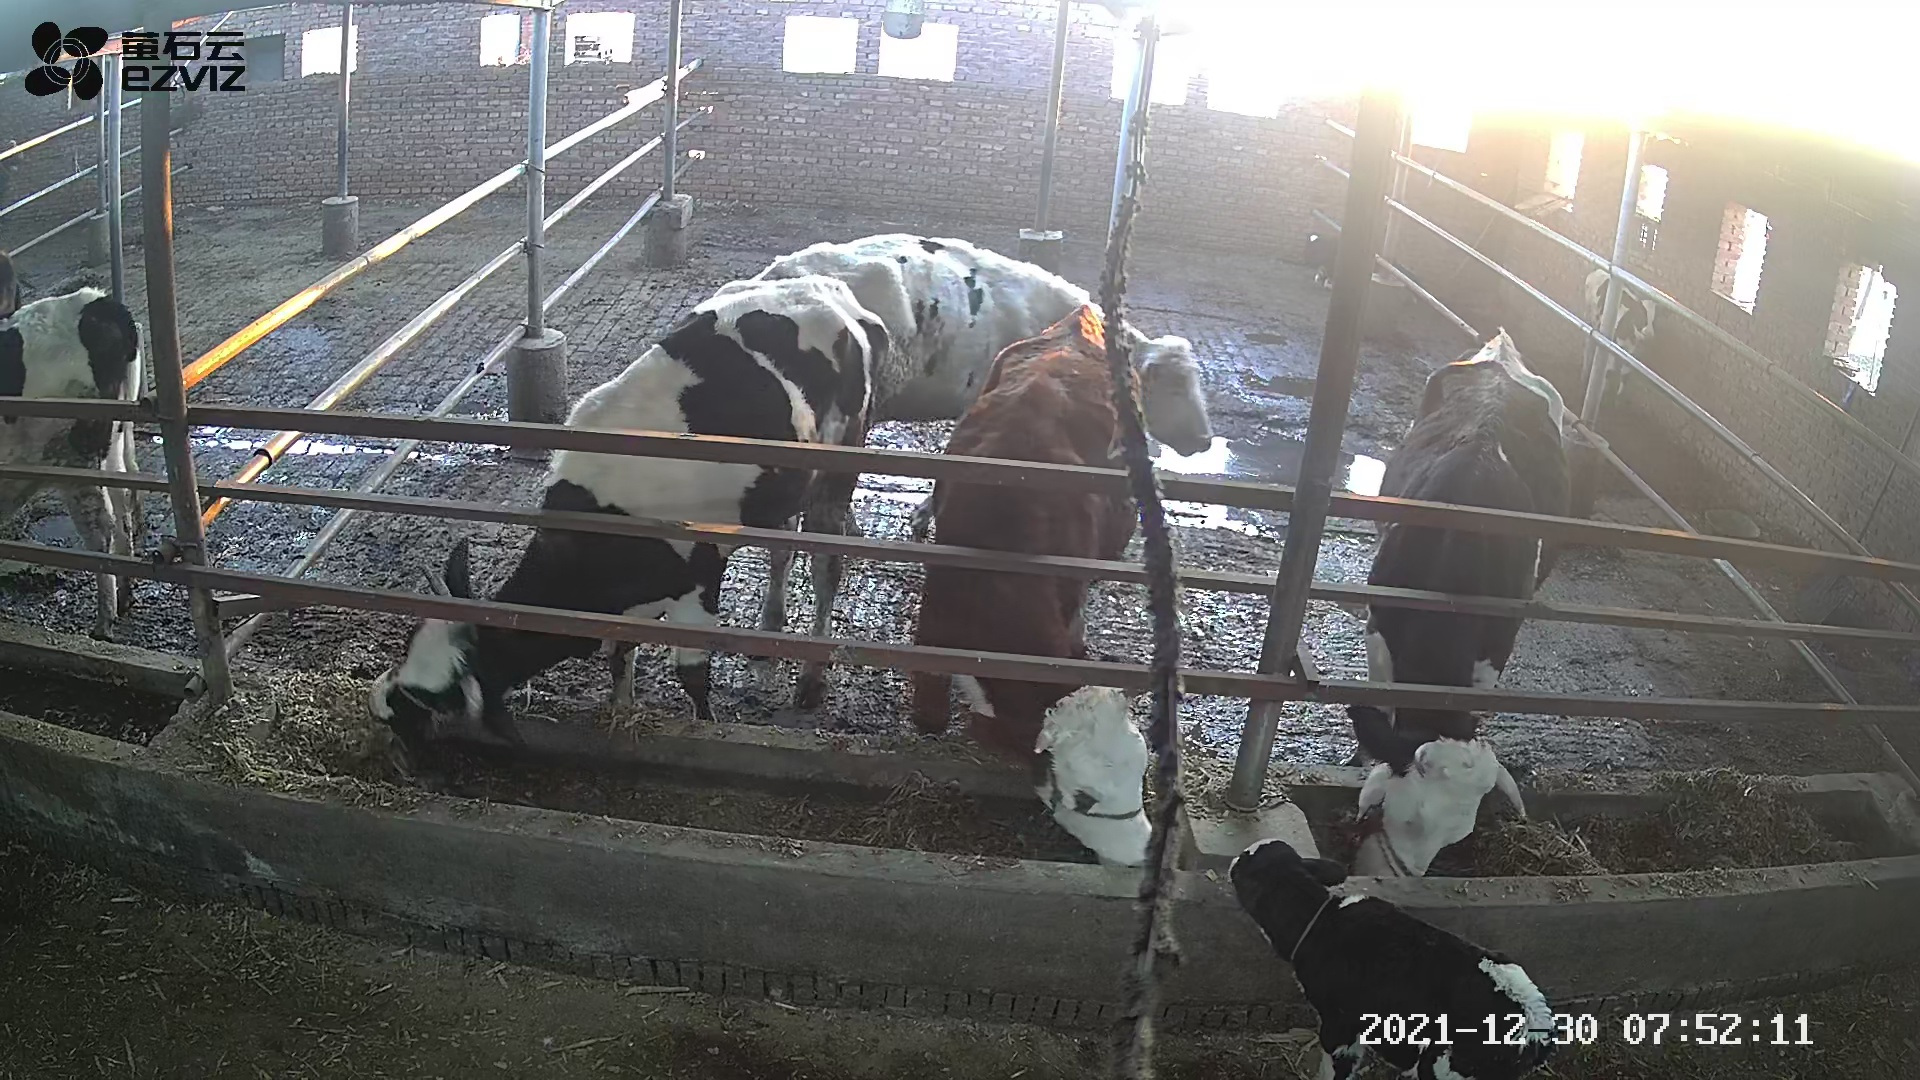cow: (367, 272, 894, 752), (746, 232, 1215, 541), (909, 307, 1153, 872), (1342, 320, 1572, 878)
